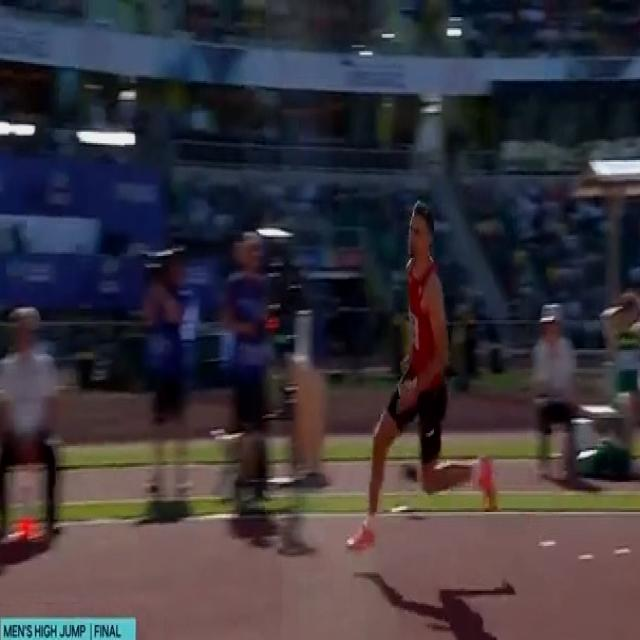run: (346, 200, 498, 556)
